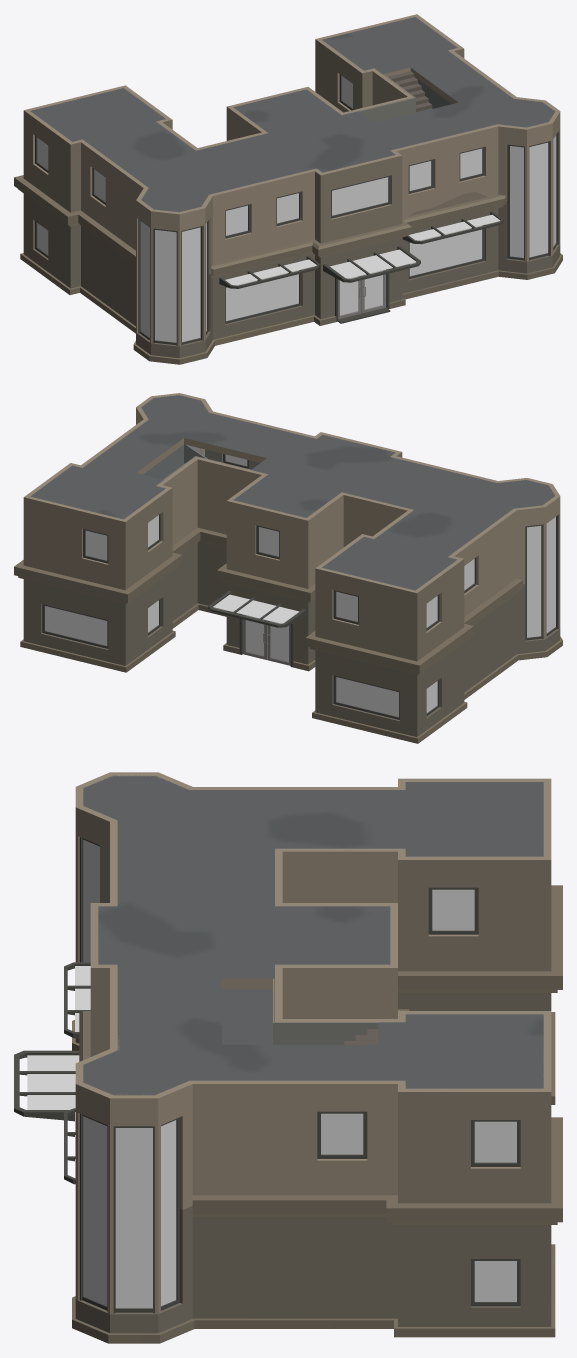
Rendered from SM_Bldg_City_Commercial_03_Base.fbx.
3 views of the same model, one above another, from view 1: azimuth 30°, elevation 25°; view 2: azimuth 150°, elevation 25°; view 3: azimuth 270°, elevation 25° (orthographic). The views are drawn at different scales.
Parts seen in each view (by area): view 1: SM_Bldg_City_Commercial_03_Base; view 2: SM_Bldg_City_Commercial_03_Base; view 3: SM_Bldg_City_Commercial_03_Base.
Boxes of the visible parts, box(x1,y1,x2,y2) form: SM_Bldg_City_Commercial_03_Base: box(14, 14, 562, 364); SM_Bldg_City_Commercial_03_Base: box(14, 393, 562, 743); SM_Bldg_City_Commercial_03_Base: box(14, 772, 562, 1343).
Bounding box in the file's own units: 2030 × 701 × 1430.
